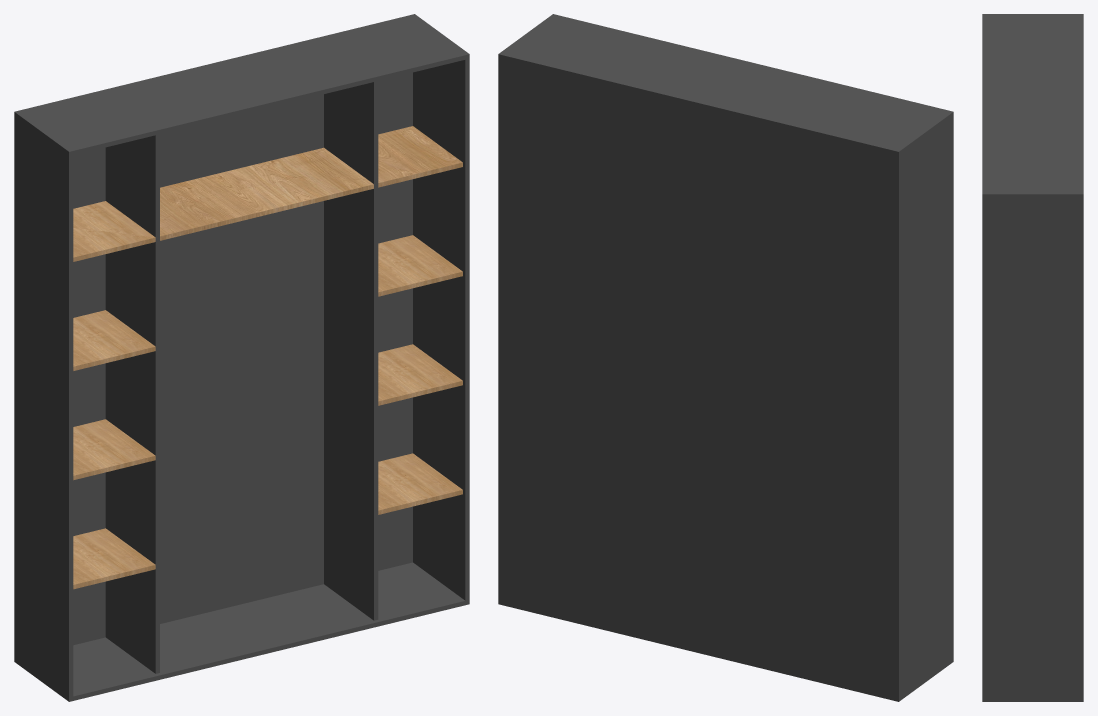
Rendered from kast.gltf.
3 renders of one model, left to right at view 1: azimuth 30°, elevation 25°; view 2: azimuth 150°, elevation 25°; view 3: azimuth 270°, elevation 25°, orthographic. The views are drawn at different scales.
Parts seen in each view (by area): view 1: kast; view 2: kast; view 3: kast.
Part boxes in pixels (x1,y1,x2,y2): kast: (14,14,469,701); kast: (498,14,953,701); kast: (982,14,1083,701).
Bounding box in the file's own units: 1685 × 2211 × 400.
Materials: 2 (1 with a texture image).
